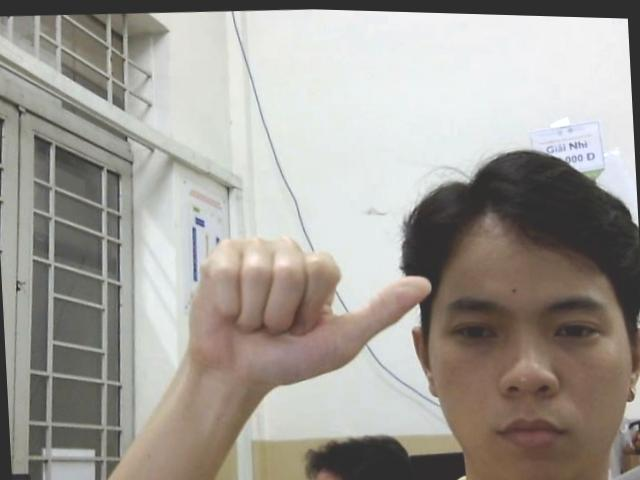A: (180, 224, 438, 388)
